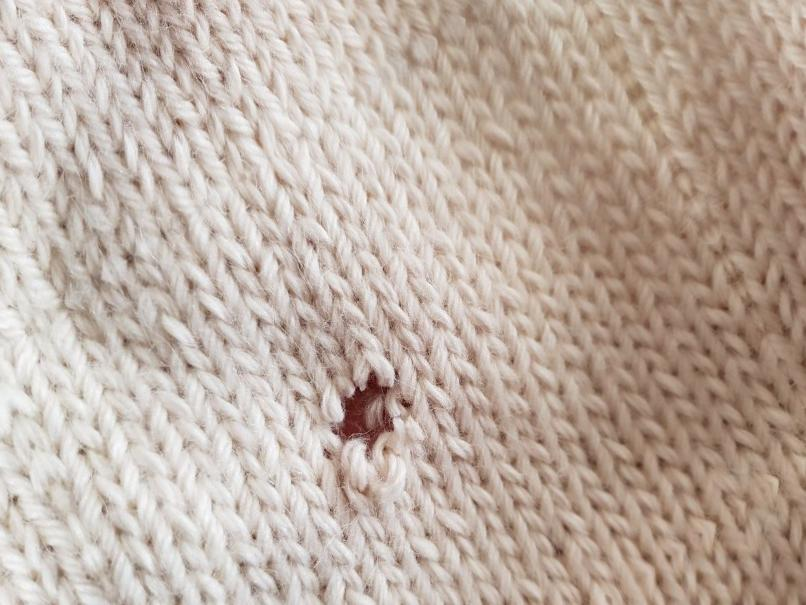hole: (315, 360, 413, 459)
